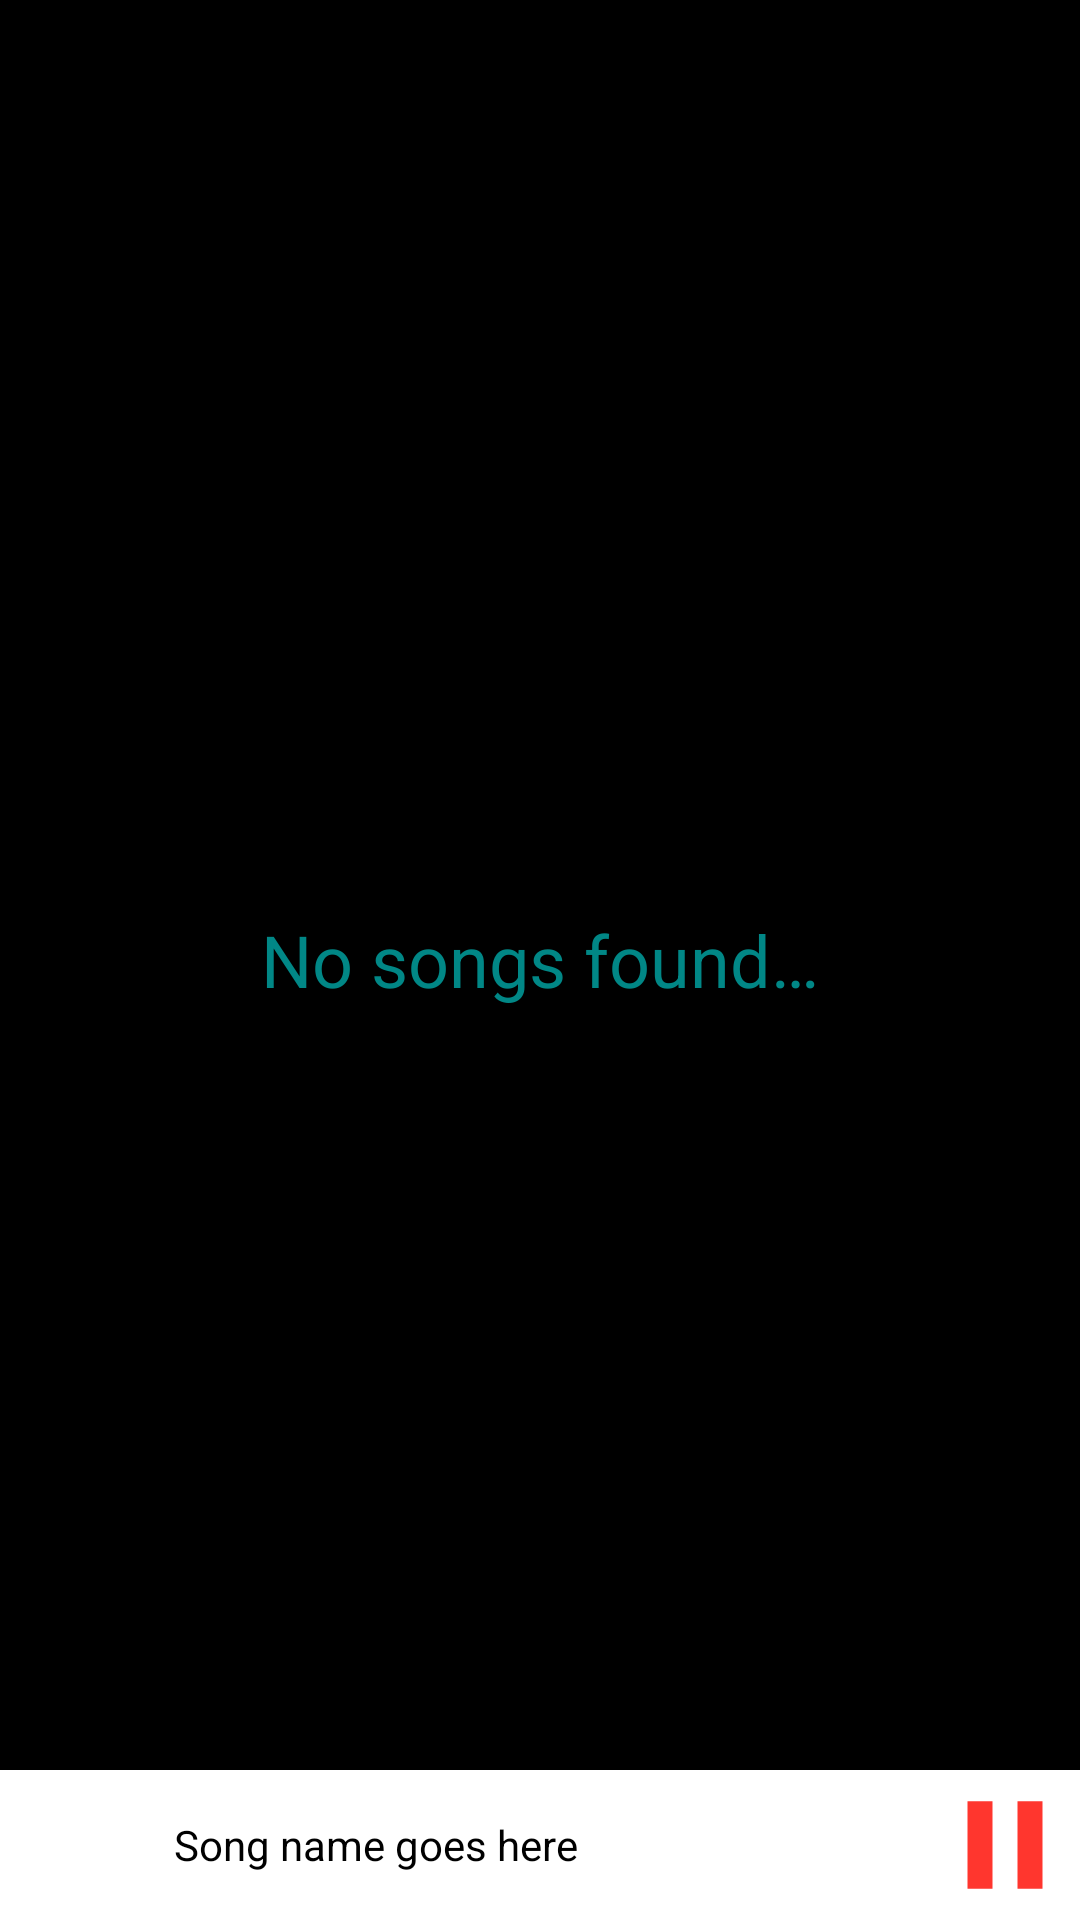

Locate icon controls on the screen. Image size 1080px x 1920px, boxes as bbox=[x1, y1, x2, y2].
pause: bbox=[967, 1801, 1043, 1889]
